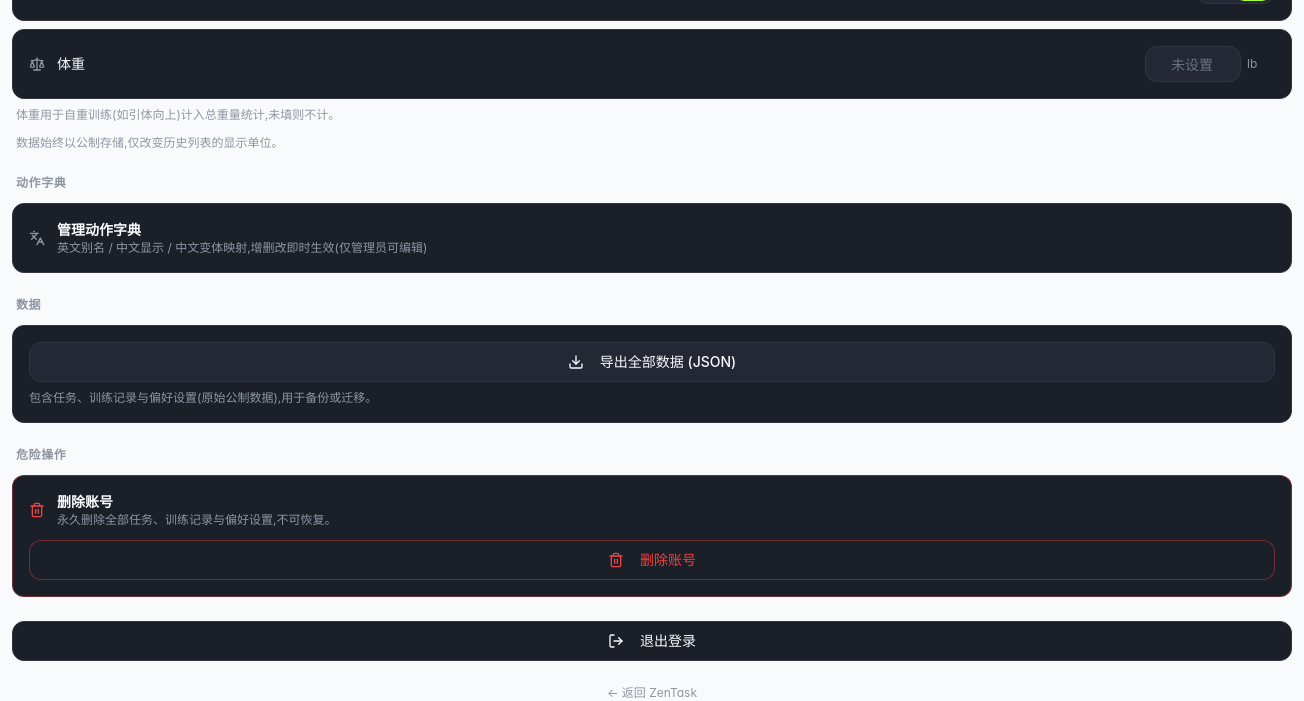
Test: FitSettings 账号删除 › RPC 失败时提示错误并回到可重试状态
(page scrolled)
Click the button "删除账号" at {"x": 652, "y": 560}, box 29,540 -> 1275,580
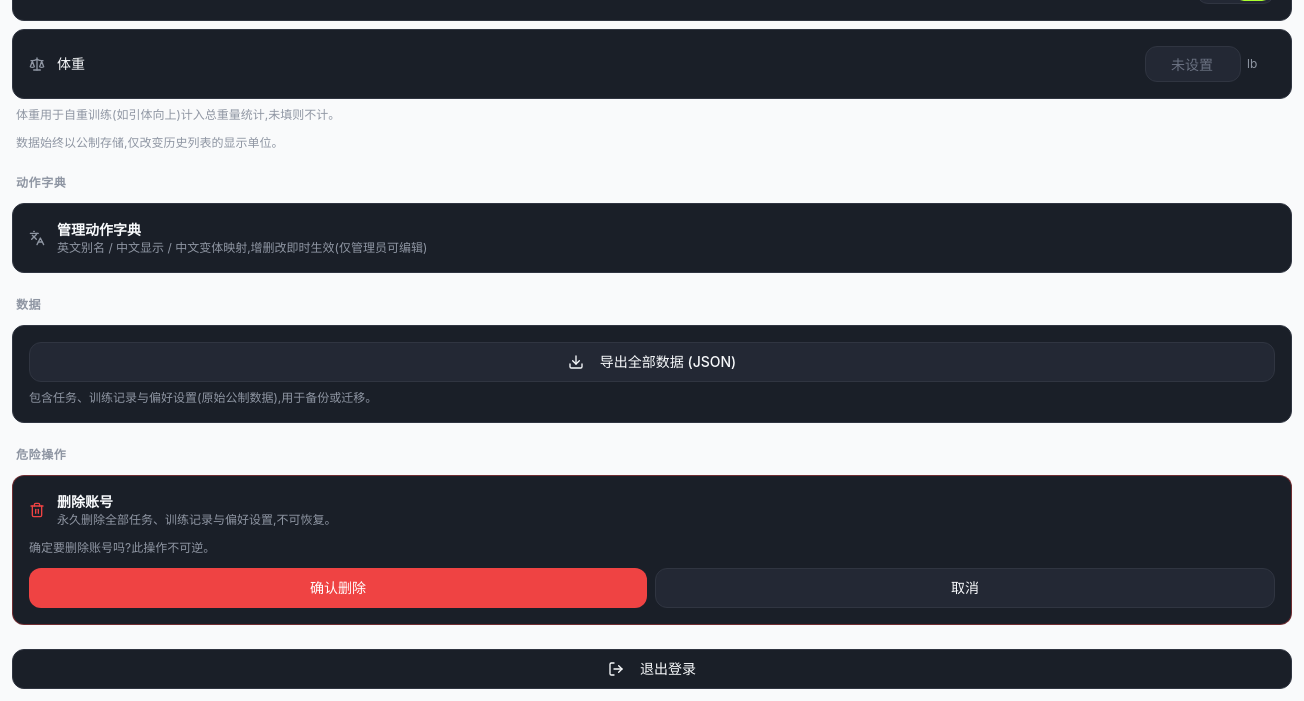
Click the button "确认删除" at {"x": 338, "y": 588}, box 29,568 -> 647,608
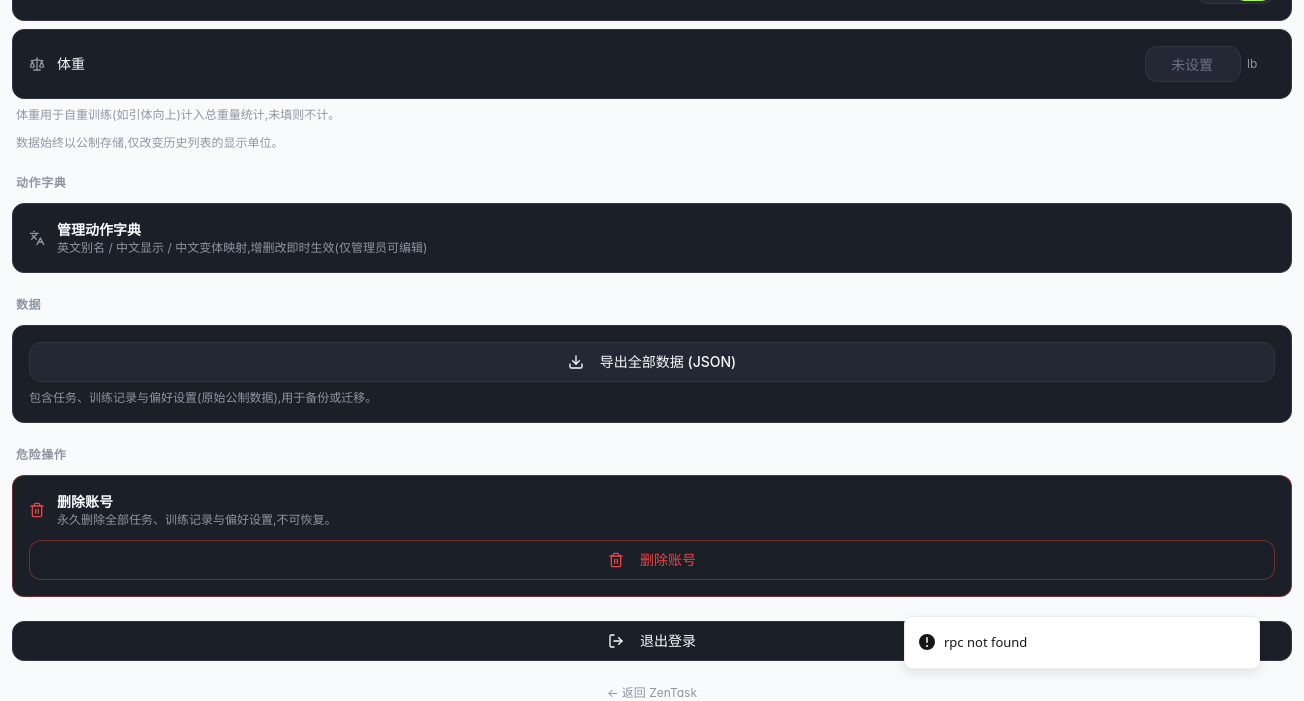
Expected: the button "删除账号" is shown, 29,540 -> 1275,580
Expected: the text "rpc not found" is shown, 944,632 -> 1027,652
Expected: the text "确定要删除账号吗" is gone
